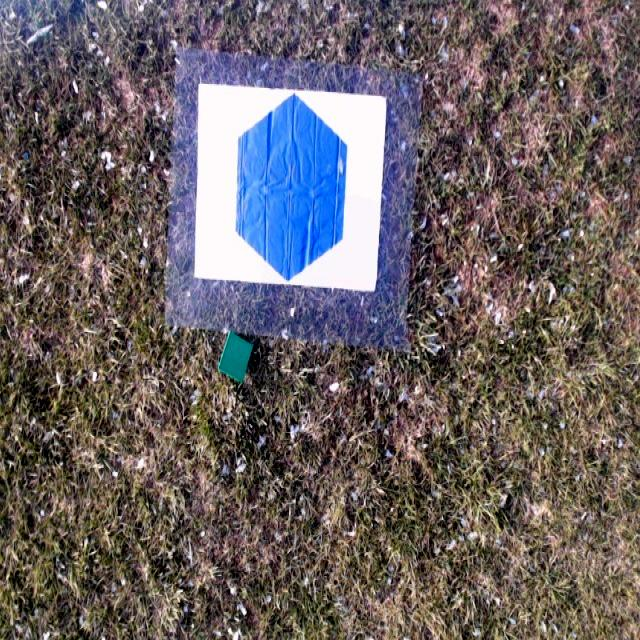blue_hexagon: (235, 91, 347, 284)
